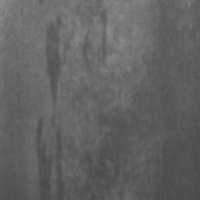inclusion: (45, 10, 75, 123), (32, 113, 68, 199), (81, 8, 114, 79)
